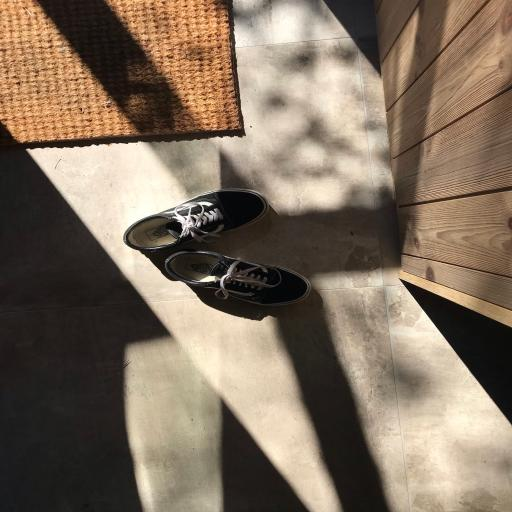shoe: (124, 189, 269, 251), (166, 251, 310, 305)
